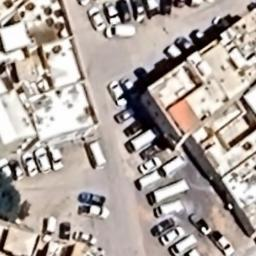others: (144, 177, 192, 207), (124, 125, 162, 154), (83, 138, 107, 174), (159, 152, 191, 178), (133, 167, 164, 193), (152, 200, 188, 218), (45, 145, 67, 173)
pickup: (206, 226, 238, 254), (78, 202, 112, 223)
sedan: (18, 148, 42, 178), (106, 78, 130, 108), (188, 209, 214, 236), (32, 146, 56, 175), (84, 6, 106, 33), (136, 154, 162, 176), (148, 217, 174, 237), (72, 228, 98, 248), (160, 224, 183, 246), (120, 76, 140, 101), (114, 0, 134, 24), (7, 158, 25, 182), (111, 105, 135, 123), (102, 2, 120, 24)
unknown: (74, 189, 110, 207)
van: (168, 232, 200, 256), (102, 22, 138, 42), (41, 214, 58, 244)
